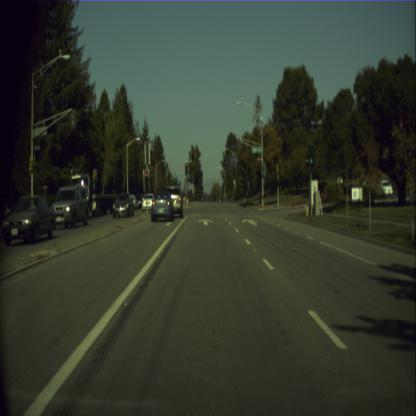Green: (308, 144, 314, 165), (233, 138, 235, 149), (262, 164, 264, 174)
RedLeft: (145, 171, 148, 191), (184, 162, 187, 174)
